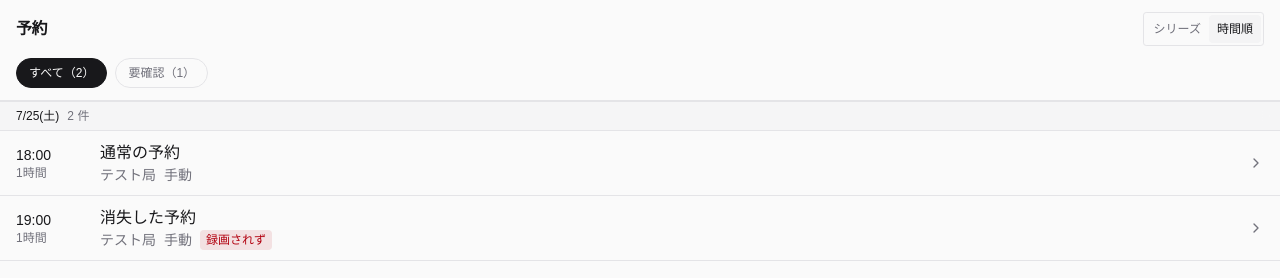
Test: 予約一覧の要確認フィルタ › チップ操作を URL に書き、すべては only を省略する
Expected: the text "通常の予約" is shown, [100,144,180,161]
Click the button "要確認（1）" at (162, 73), box [115,58,208,88]
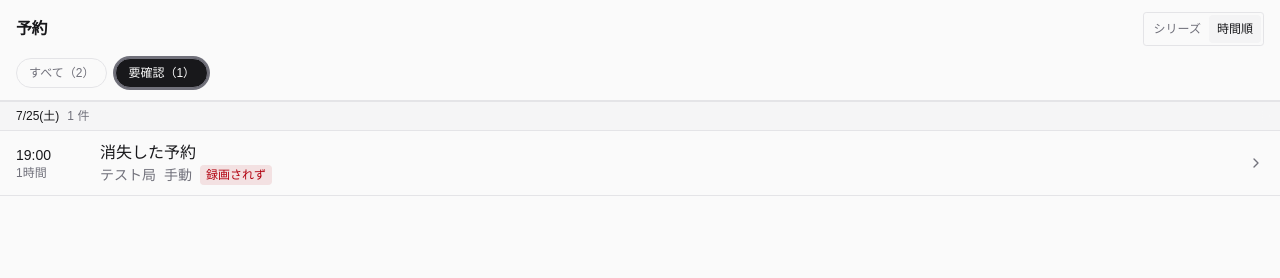
Expected: the text "通常の予約" is gone
Click the button "すべて（2）" at (62, 73), box [16,58,107,88]
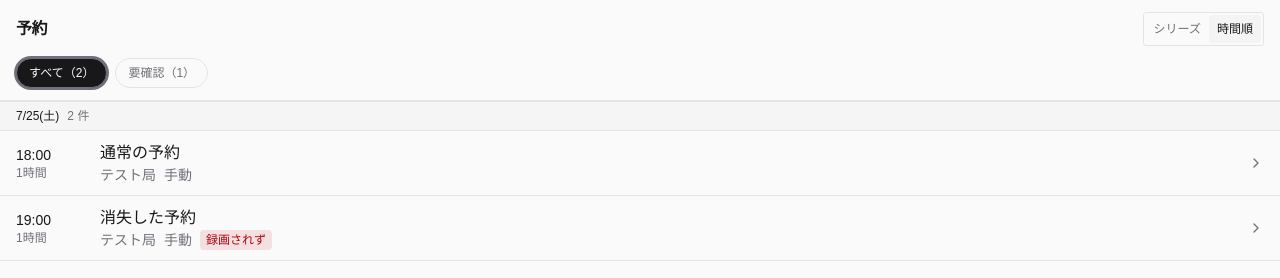
Expected: the text "通常の予約" is shown, [100,144,180,161]
